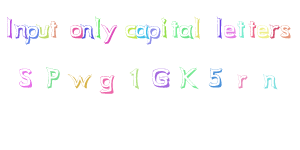1: (128, 66, 143, 89)
5: (208, 66, 224, 89)
G: (150, 66, 172, 88)
I: (3, 14, 18, 40)
K: (178, 65, 201, 90)
P: (44, 66, 62, 89)
S: (16, 67, 34, 89)
a: (134, 23, 150, 39), (179, 24, 194, 39)
c: (124, 22, 138, 40)
e: (223, 24, 237, 40), (257, 25, 270, 39)
g: (98, 74, 116, 96)
i: (160, 15, 170, 38)
l: (213, 15, 225, 40), (92, 14, 103, 40), (193, 16, 203, 39)
n: (80, 21, 95, 42), (262, 73, 278, 90), (13, 23, 28, 40)
o: (69, 23, 83, 40)
p: (24, 23, 41, 46), (146, 23, 161, 47)
r: (237, 72, 248, 90), (269, 24, 280, 40)
s: (280, 24, 292, 41)
t: (49, 19, 59, 39), (170, 19, 180, 39), (247, 18, 257, 38), (237, 18, 246, 38)
u: (36, 22, 50, 40)
w: (68, 72, 92, 89)
y: (101, 23, 117, 45)
